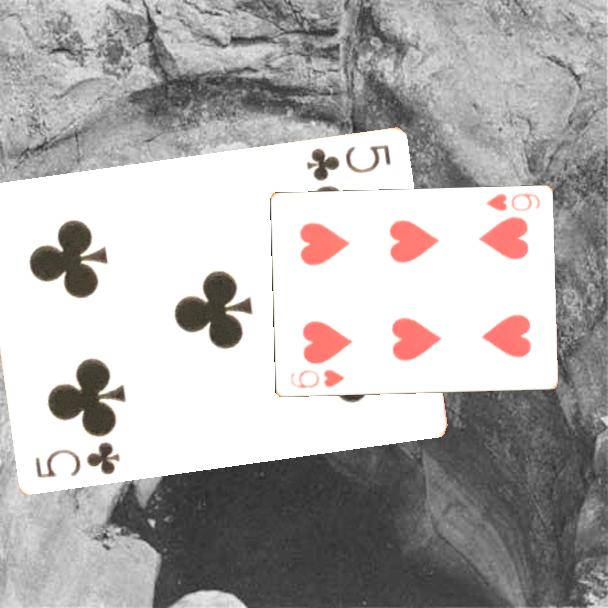c05: (31, 438, 123, 482), (302, 141, 393, 185)
h06: (286, 366, 347, 391), (482, 190, 542, 215)
